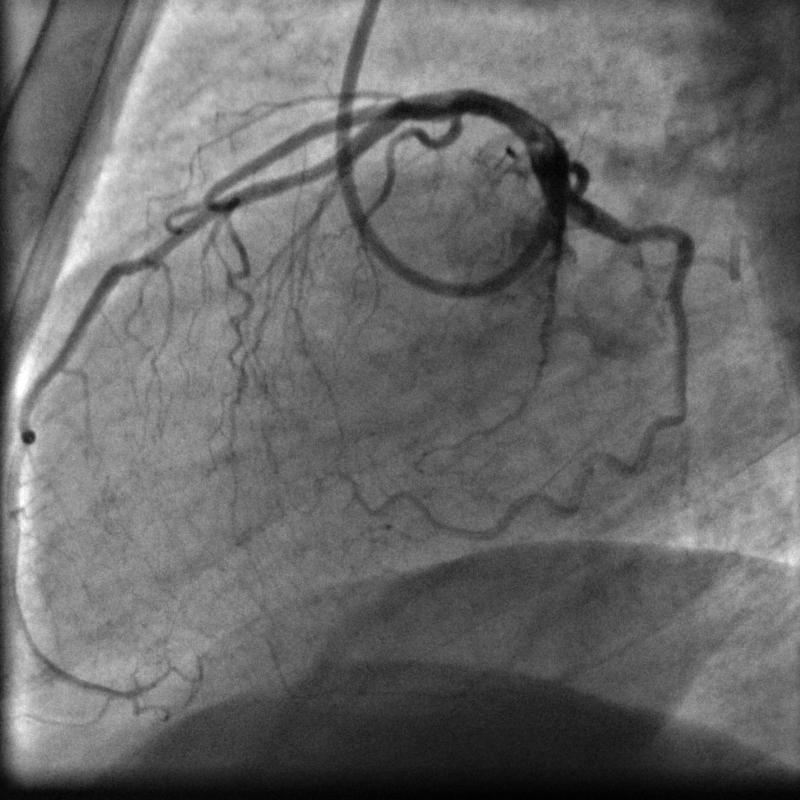Stenosis: (429, 88, 471, 133)
